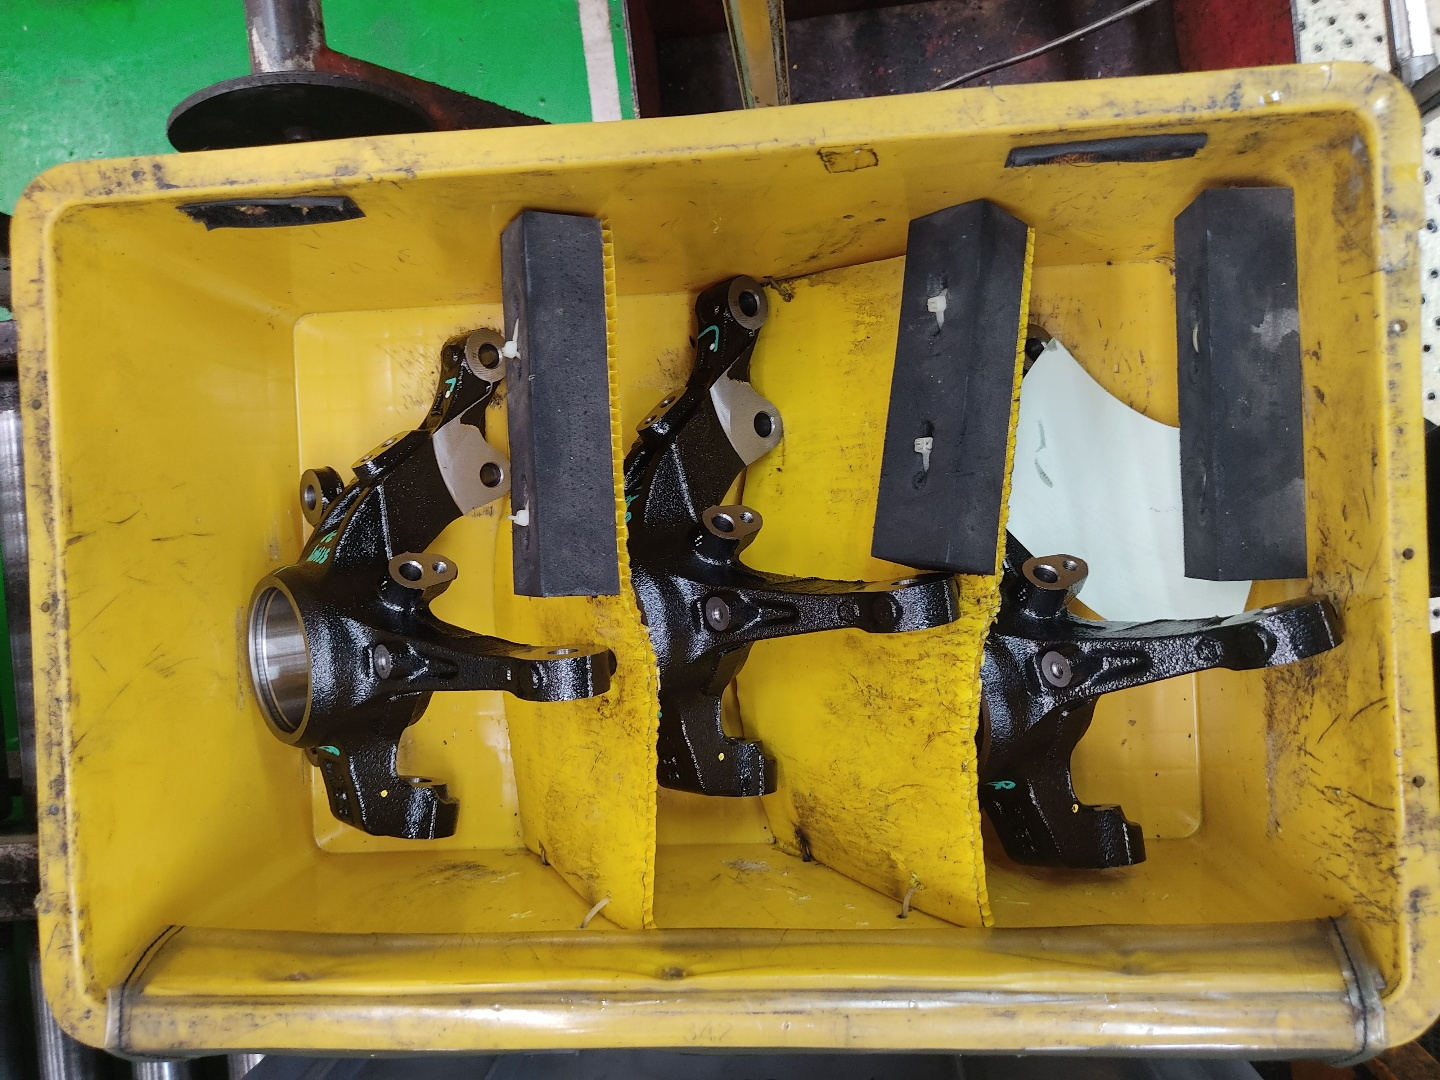abs-lh: (976, 321, 1353, 878), (239, 320, 622, 846), (628, 270, 964, 811)
